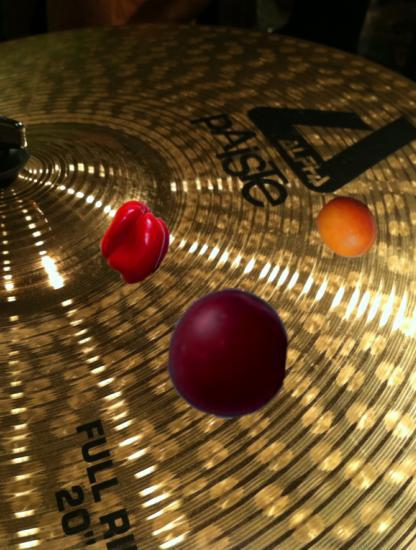Apricot: (315, 194, 381, 260)
Cherry: (163, 288, 294, 419)
Pepper: (98, 206, 172, 280)
